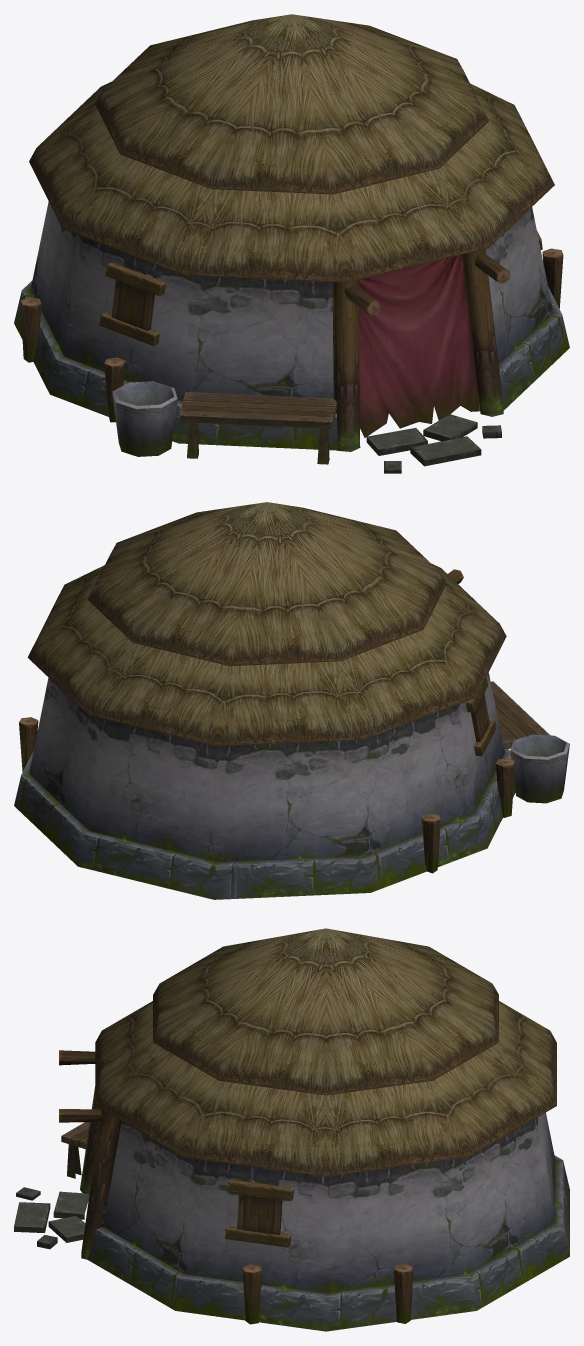
File: building_yewai_xiaomaowu.FBX
The picture shows the model from 3 angles, top to bottom: view 1: azimuth 30°, elevation 25°; view 2: azimuth 150°, elevation 25°; view 3: azimuth 270°, elevation 25°; orthographic projection. The views are drawn at different scales.
Parts seen in each view (by area): view 1: building_yewai_xiaomaowu; view 2: building_yewai_xiaomaowu; view 3: building_yewai_xiaomaowu.
Part boxes in pixels (left/top/right/bottom): building_yewai_xiaomaowu: left=14, top=14, right=569, bottom=473; building_yewai_xiaomaowu: left=14, top=502, right=569, bottom=899; building_yewai_xiaomaowu: left=14, top=928, right=569, bottom=1331.
Size of the model in its own units: 15.46 by 9.6 by 16.39.
